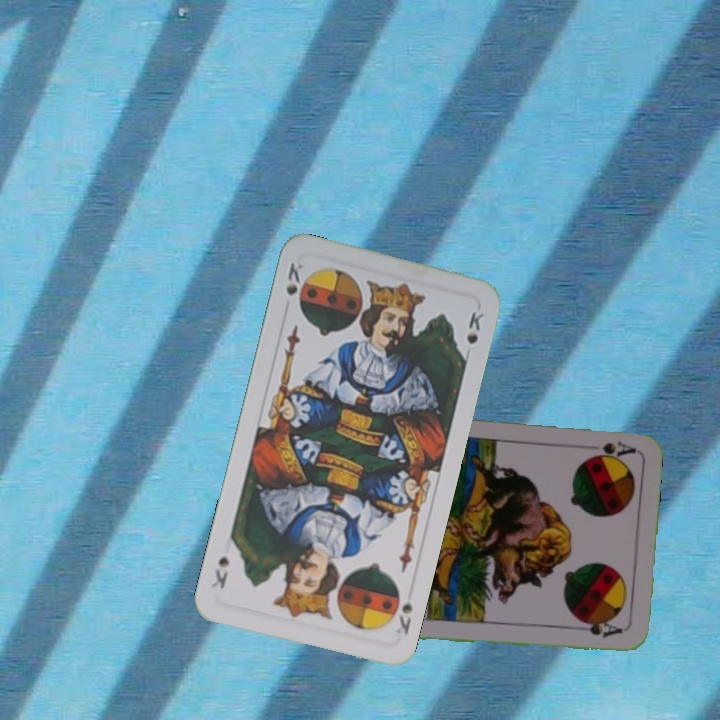SA: (578, 437, 637, 458)
SK: (281, 258, 306, 298), (391, 598, 416, 637)
